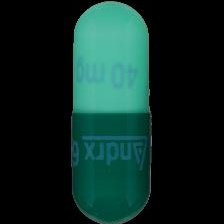64205-640: (0, 0, 224, 224)
